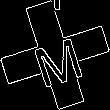M_N: (25, 24, 85, 86)
